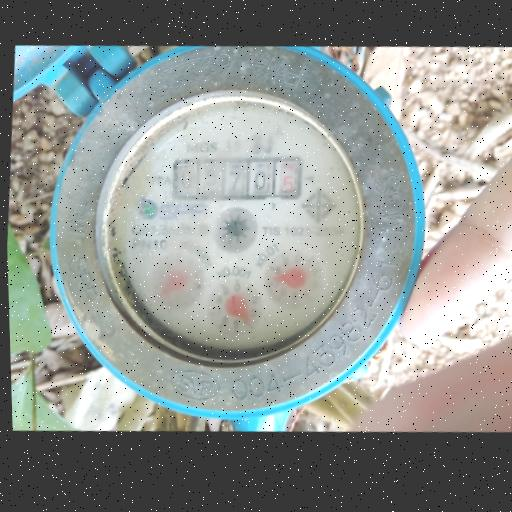0: (248, 161, 274, 197), (176, 165, 198, 196)
5: (275, 160, 299, 196), (199, 163, 223, 197)
7: (225, 161, 248, 196)
border_water_meter_number: (170, 147, 306, 210)
